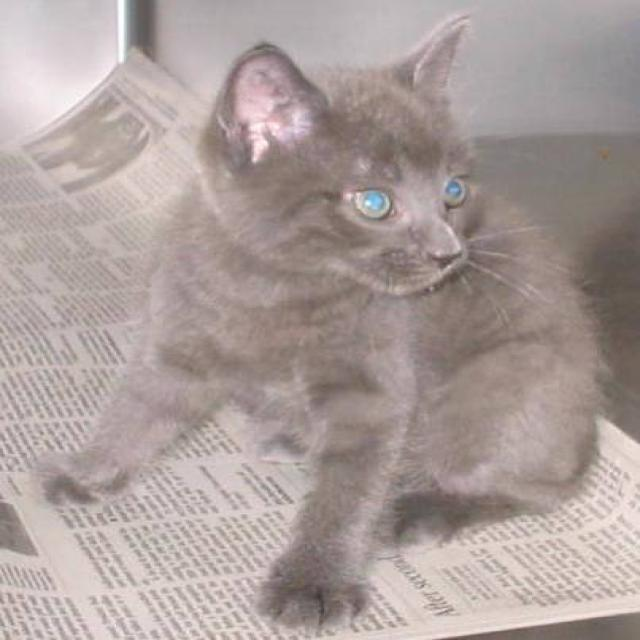cat: (32, 12, 608, 636)
